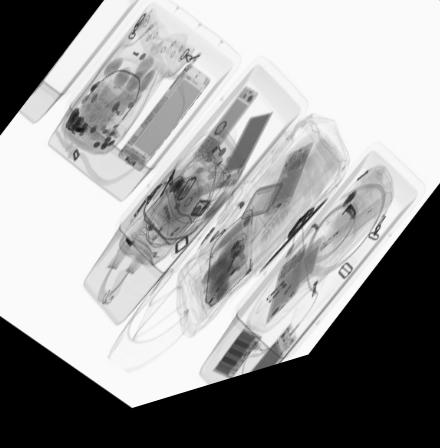Lighter: (208, 155, 223, 182)
